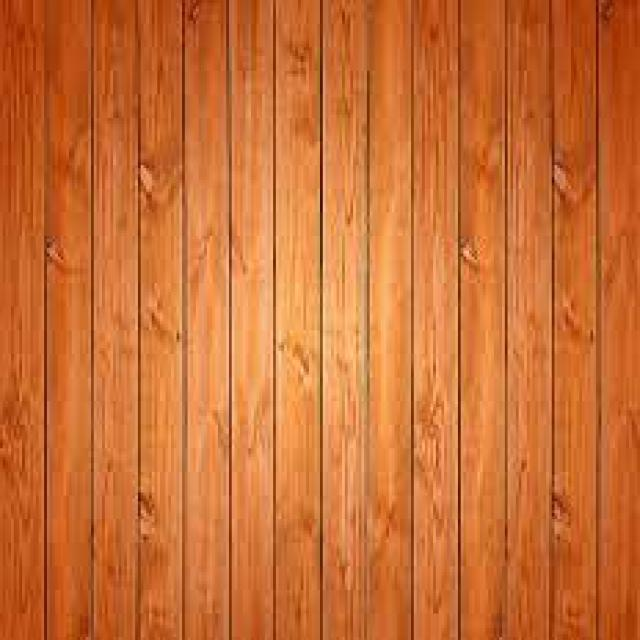perfect-wooden-plate: (204, 0, 274, 638), (342, 1, 411, 638), (502, 1, 552, 638), (135, 0, 182, 638), (274, 0, 320, 639), (45, 0, 91, 638), (412, 0, 458, 638), (322, 1, 368, 638), (550, 1, 596, 638), (0, 0, 45, 638), (460, 1, 505, 638), (92, 1, 136, 638), (184, 0, 226, 638), (599, 0, 640, 638)
